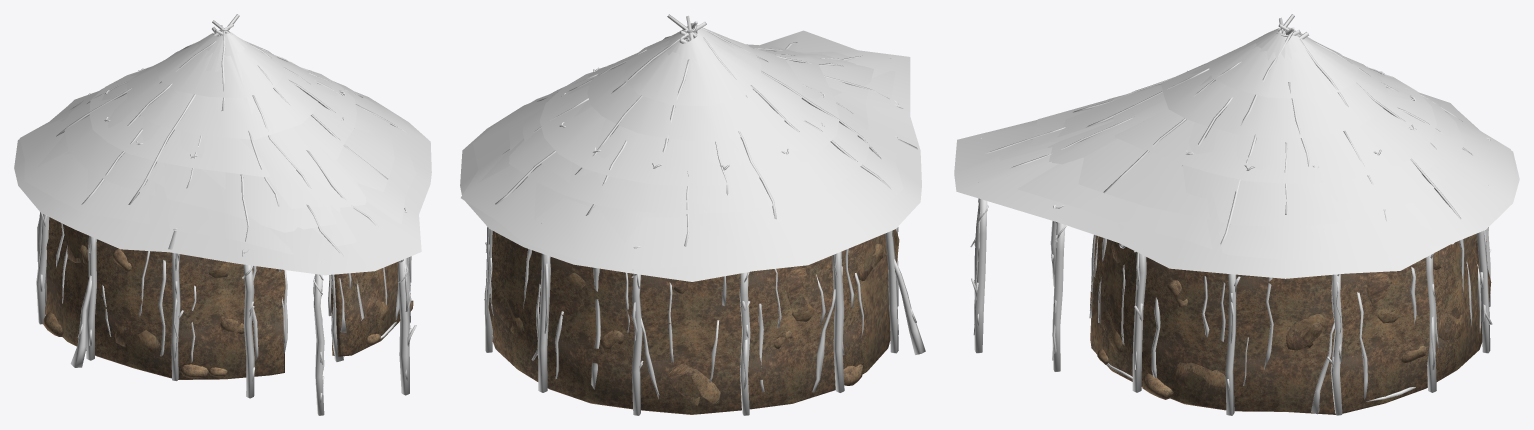
Rendered from lowpoly_african_hut_003.fbx.
3 renders of one model, left to right at view 1: azimuth 30°, elevation 25°; view 2: azimuth 150°, elevation 25°; view 3: azimuth 270°, elevation 25°, orthographic. The views are drawn at different scales.
Parts seen in each view (by area): view 1: lowpoly_african_hut_002; view 2: lowpoly_african_hut_002; view 3: lowpoly_african_hut_002.
Part boxes in pixels (x1=…): lowpoly_african_hut_002: x1=14, y1=14, x2=431, y2=415; lowpoly_african_hut_002: x1=460, y1=14, x2=925, y2=415; lowpoly_african_hut_002: x1=954, y1=14, x2=1519, y2=415.
Size of the model in its own units: 449 by 333 by 542.
